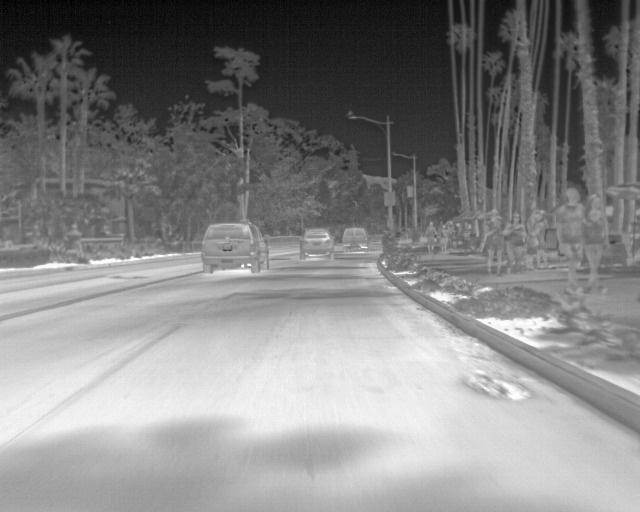bicycle: (201, 220, 264, 273), (299, 227, 334, 260), (340, 224, 369, 254)
empty: (554, 187, 583, 293), (581, 194, 610, 290), (477, 213, 508, 277), (510, 216, 528, 274), (532, 212, 547, 270), (424, 220, 439, 254), (438, 226, 451, 253)
